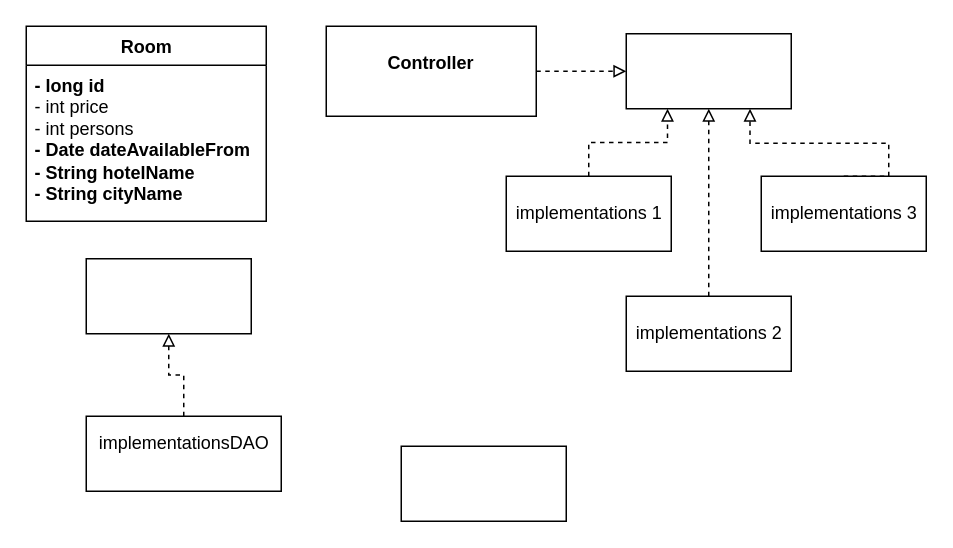
This 953x548 diagram has some shape labels left out. Each missing label, with the box of its shape:
Main: (400, 445, 566, 521)
«interface» API: (625, 32, 791, 109)
«interface» DAO: (85, 257, 251, 334)
